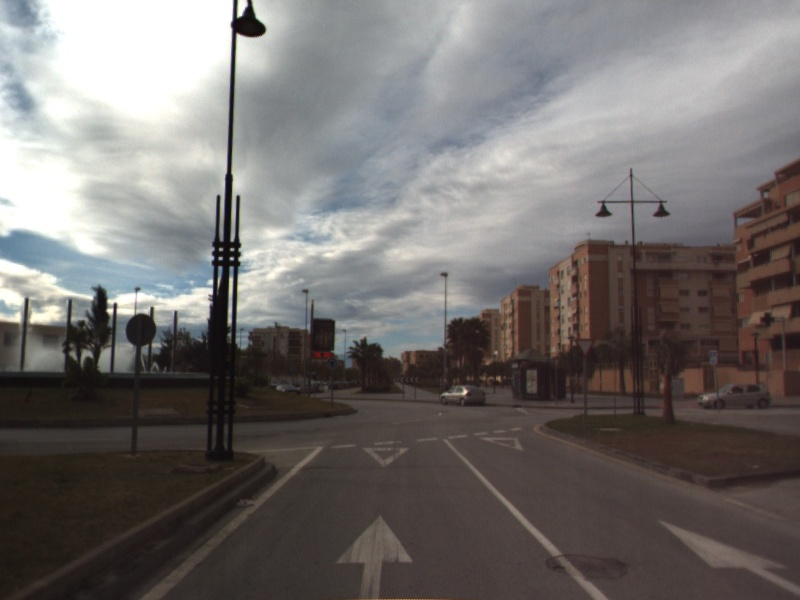STRAIGHT: (656, 518, 800, 597), (332, 513, 415, 600)
